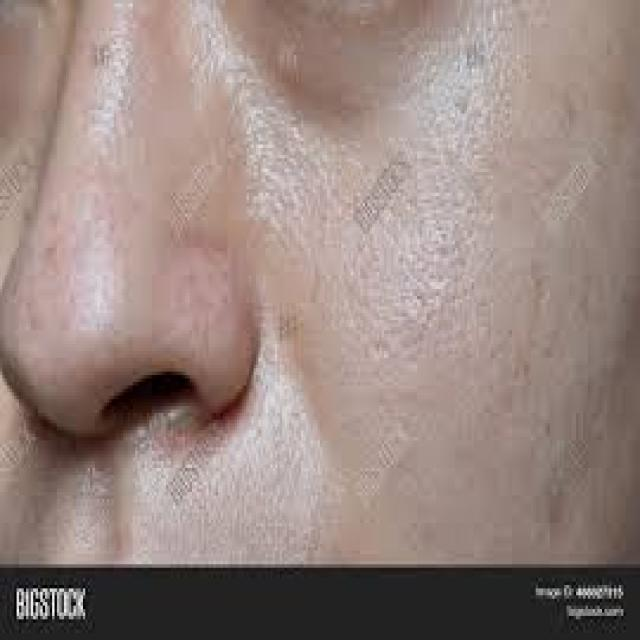oily: (29, 50, 601, 640)
